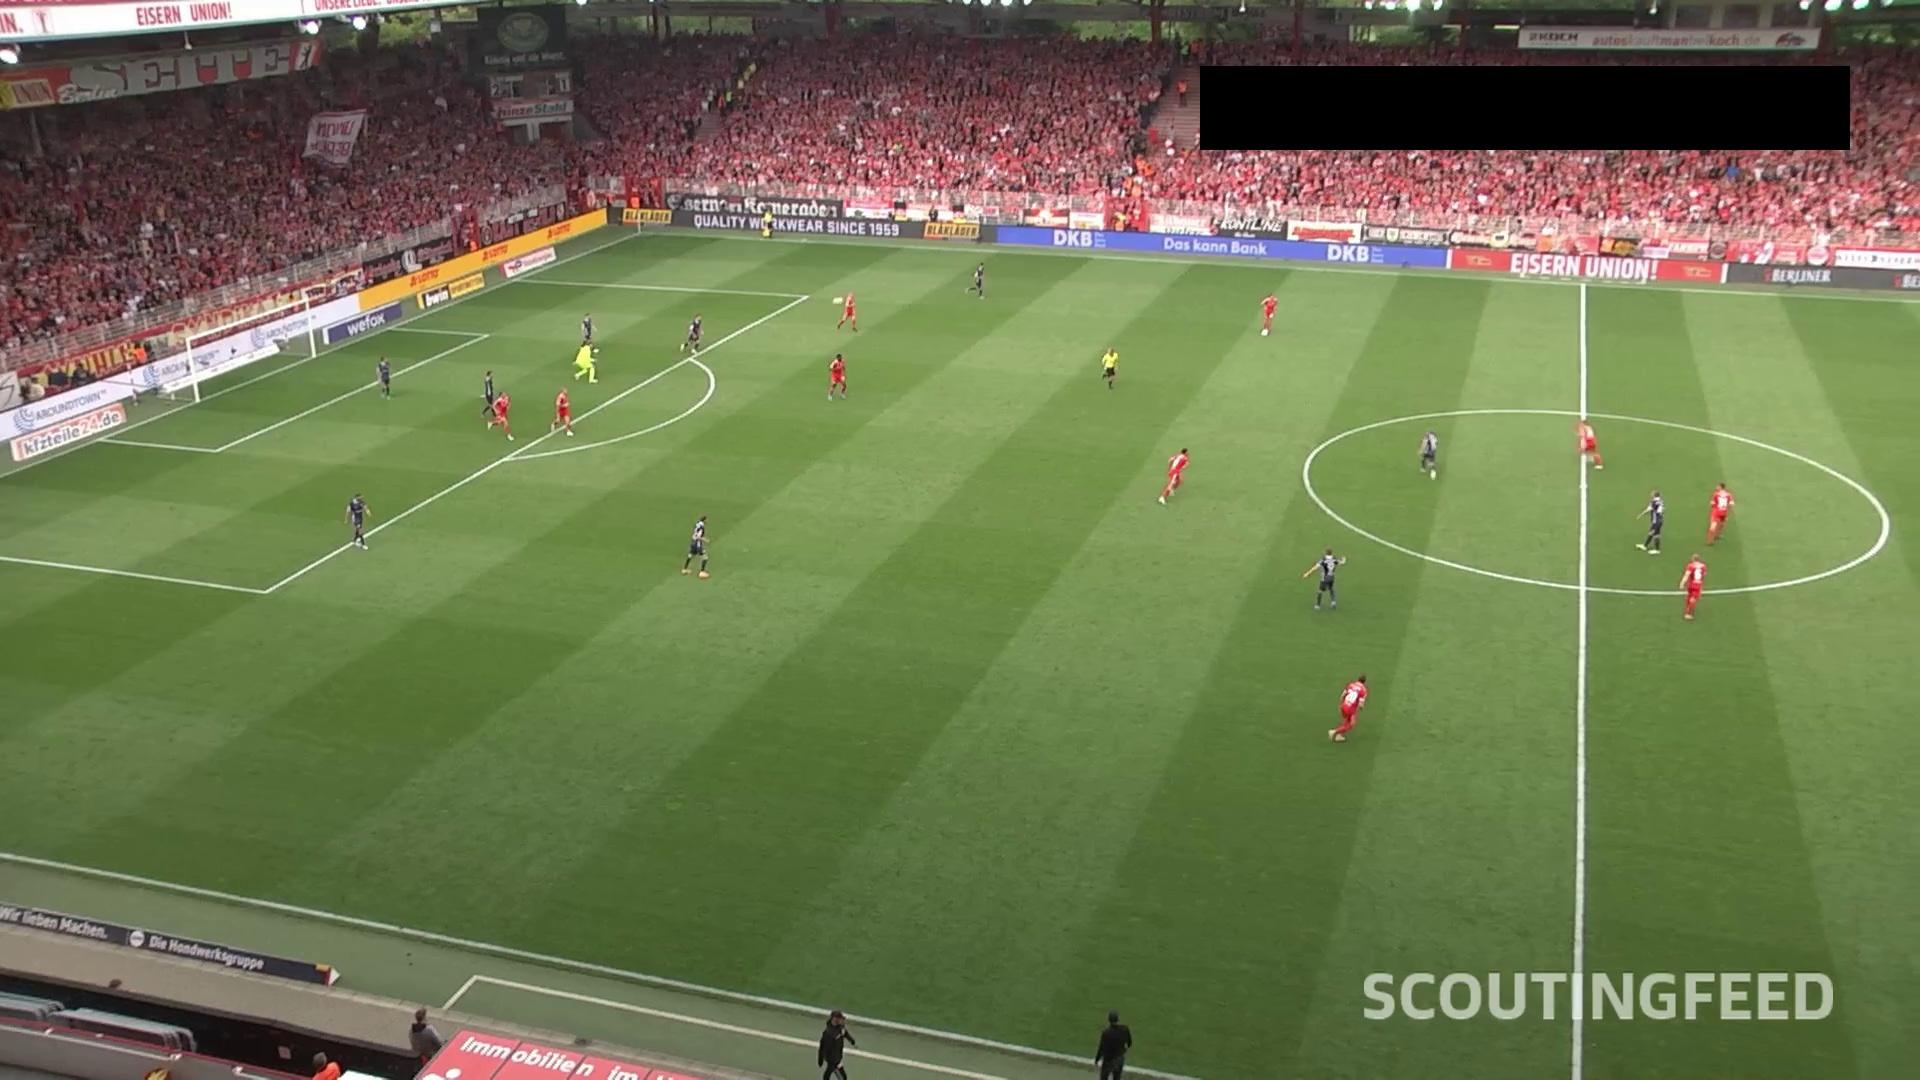Location-of-ball: (1422, 459, 1448, 487)
